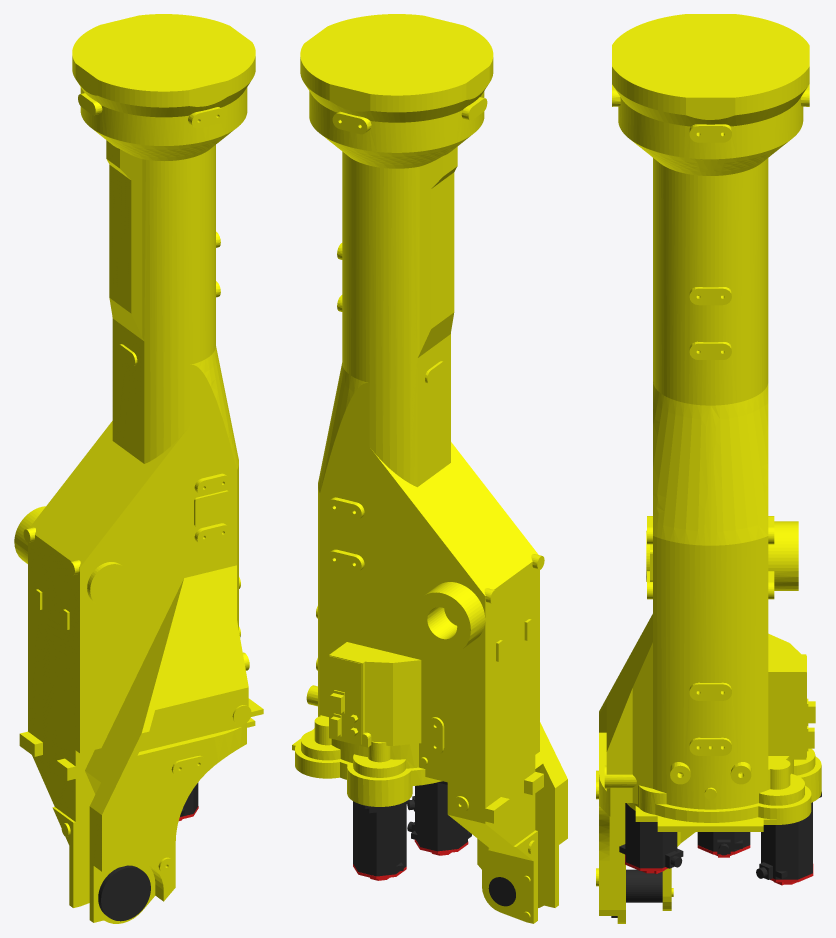
3 renders of one model, left to right at view 1: azimuth 30°, elevation 25°; view 2: azimuth 150°, elevation 25°; view 3: azimuth 270°, elevation 25°, orthographic. The views are drawn at different scales.
Parts seen in each view (by area): view 1: node; view 2: node; view 3: node.
Part boxes in pixels (<box>): node: <box>14,14,263,923</box>; node: <box>292,14,567,923</box>; node: <box>596,14,821,923</box>.
Size of the model in its own units: 826 by 3309 by 744.
